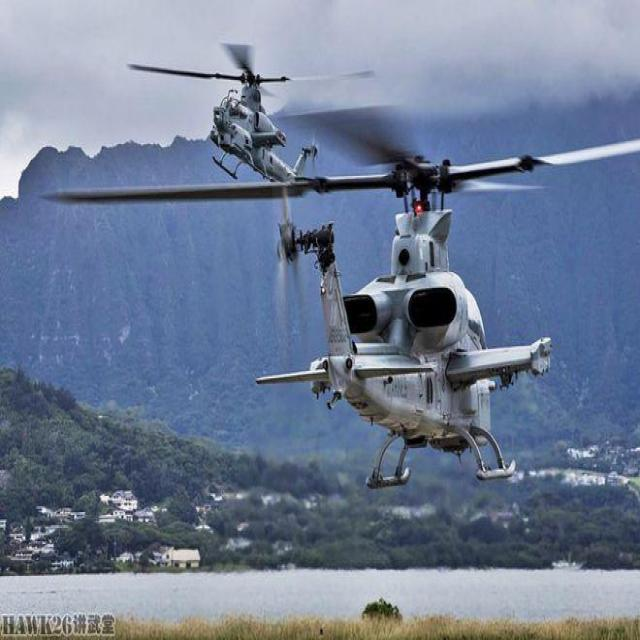MIL_HELO: (40, 111, 640, 494)
